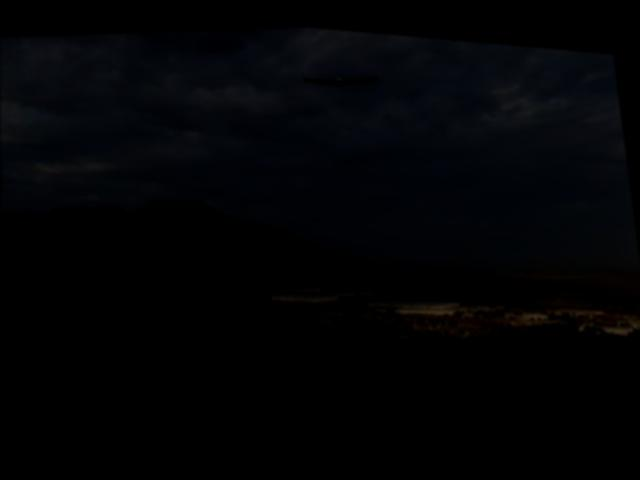iha: (300, 56, 378, 91)
